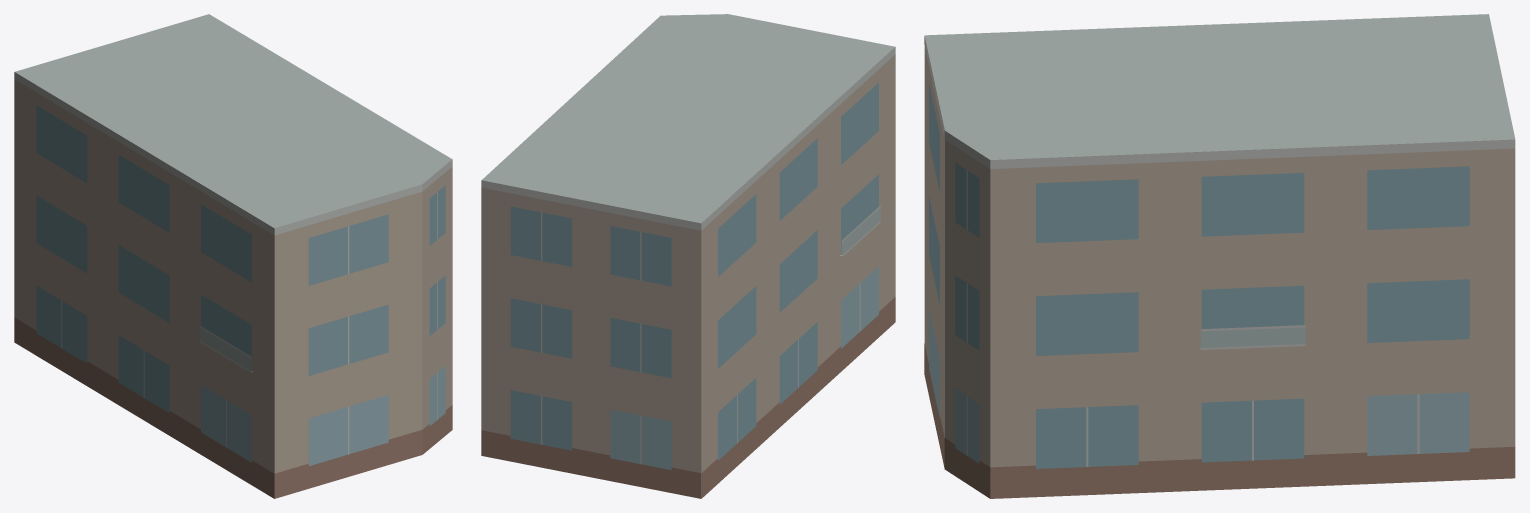
File: survey-upis-32625739.glb
The picture shows the model from 3 angles, left to right: view 1: azimuth 30°, elevation 25°; view 2: azimuth 150°, elevation 25°; view 3: azimuth 270°, elevation 25°; orthographic projection. The views are drawn at different scales.
Visible parts, largest first — view 1: survey-upis-32625739.tmp; view 2: survey-upis-32625739.tmp; view 3: survey-upis-32625739.tmp.
Part boxes in pixels (x1,y1,x2,y2): survey-upis-32625739.tmp: (14, 14, 452, 498); survey-upis-32625739.tmp: (481, 14, 895, 498); survey-upis-32625739.tmp: (924, 14, 1515, 498).
Bounding box in the file's own units: 8.47 × 9.15 × 14.48.
